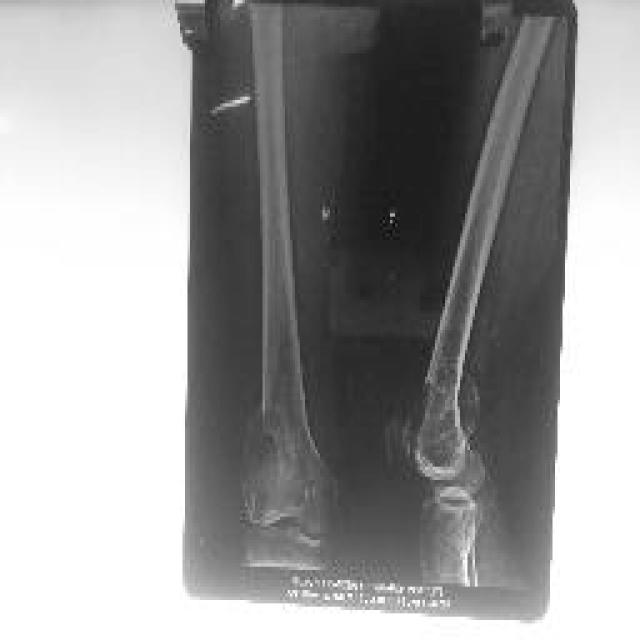bone-cancer: (386, 368, 479, 481), (242, 407, 294, 526)
